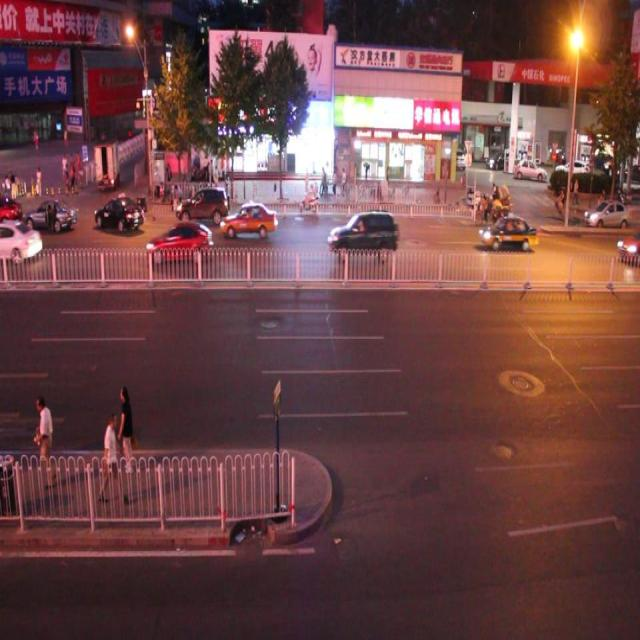car: (328, 208, 398, 261), (145, 221, 213, 267), (477, 210, 536, 253), (175, 184, 230, 228), (219, 199, 278, 240), (94, 192, 145, 233), (22, 199, 78, 234), (1, 218, 42, 260), (583, 195, 630, 230), (614, 228, 640, 265)
